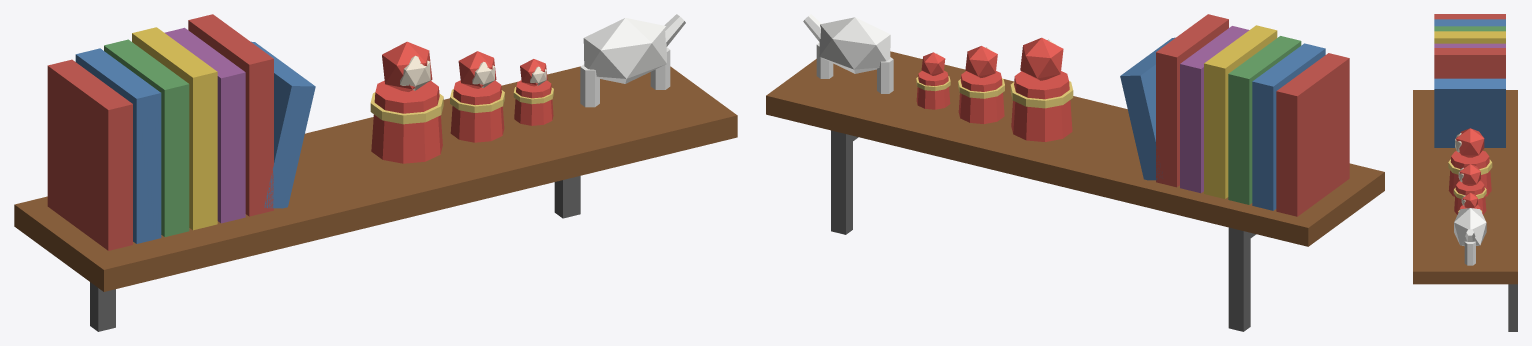
Rendered from wall_shelf_books.glb.
3 renders of one model, left to right at view 1: azimuth 30°, elevation 25°; view 2: azimuth 150°, elevation 25°; view 3: azimuth 270°, elevation 25°, orthographic. The views are drawn at different scales.
Parts seen in each view (by area): view 1: wall_shelf_books; view 2: wall_shelf_books; view 3: wall_shelf_books.
Part boxes in pixels (bbox=[...]): wall_shelf_books: bbox=[14, 14, 737, 331]; wall_shelf_books: bbox=[766, 14, 1384, 331]; wall_shelf_books: bbox=[1413, 14, 1517, 331].
Bounding box in the file's own units: 0.9 × 0.3971 × 0.22.
